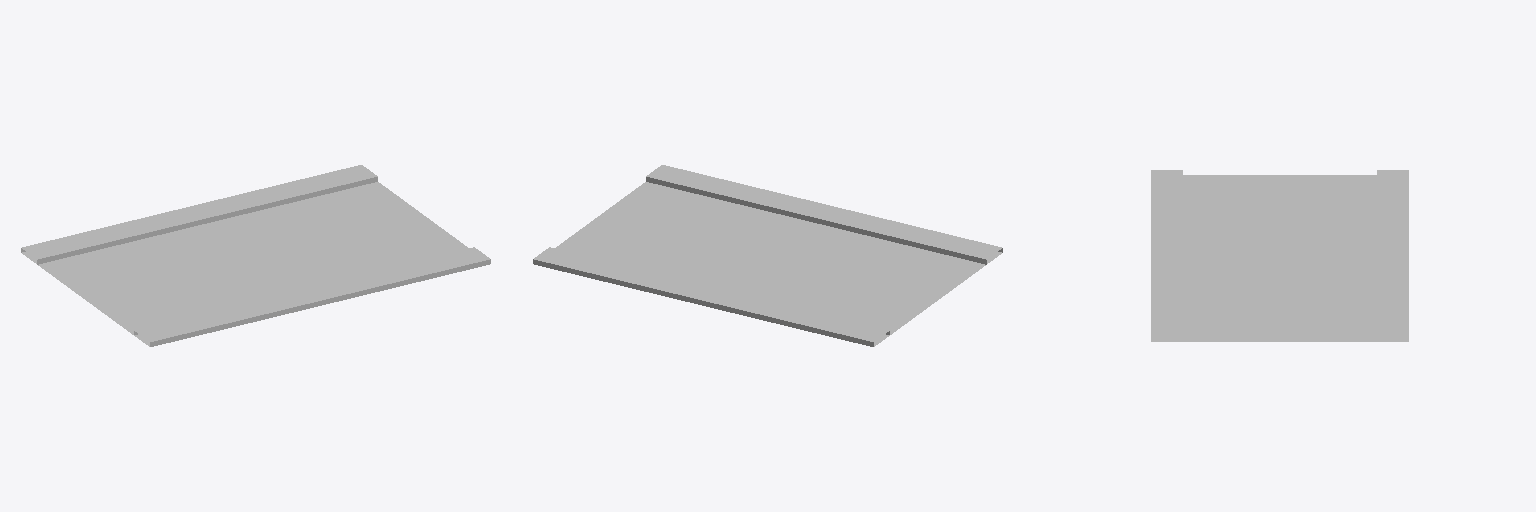
The model's file is Straightroad.obj.
3 views of the same model, side by side, from view 1: azimuth 30°, elevation 25°; view 2: azimuth 150°, elevation 25°; view 3: azimuth 270°, elevation 25° (orthographic).
Visible parts, largest first — view 1: Interseccion; view 2: Interseccion; view 3: Interseccion.
Boxes of the visible parts, x1=… form: Interseccion: x1=21, y1=165, x2=490, y2=346; Interseccion: x1=533, y1=165, x2=1002, y2=346; Interseccion: x1=1151, y1=170, x2=1408, y2=341.
Bounding box in the file's own units: 2 × 0.0285 × 1.31.